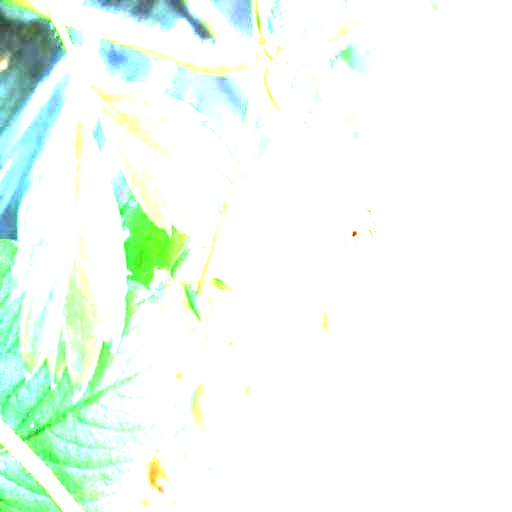Gray Mold: (338, 127, 403, 283)
